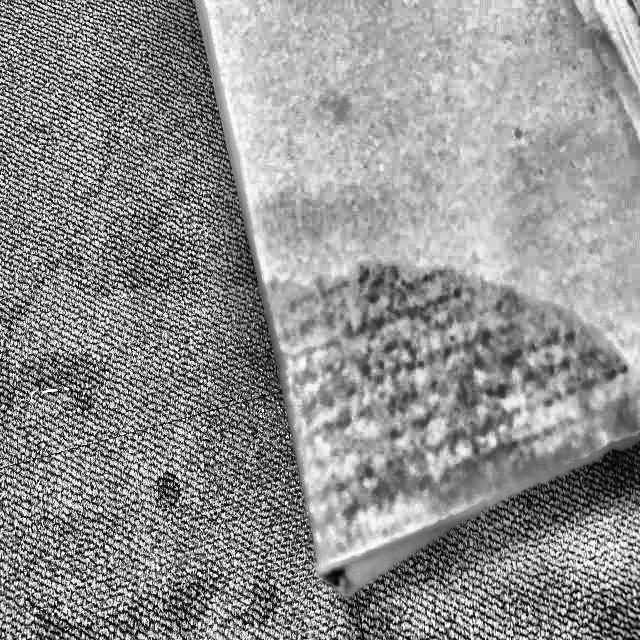box: (191, 0, 639, 611)
wet: (275, 217, 640, 558)
